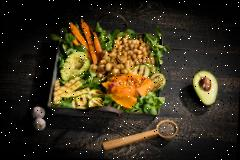organic: (191, 66, 226, 108), (80, 19, 107, 62), (62, 49, 92, 78), (31, 104, 48, 118), (30, 118, 48, 130)
